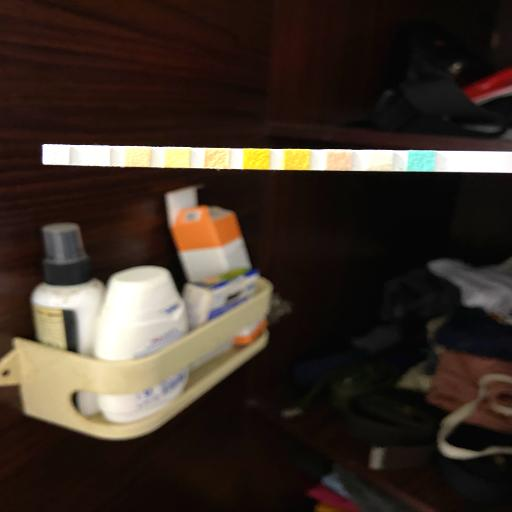Bilirubin: (366, 152, 392, 170)
Blood: (245, 149, 269, 169)
Glucose: (408, 151, 436, 171)
Ketone: (324, 150, 350, 170)
Leukocytes: (44, 146, 69, 164)
Nitrite: (84, 146, 109, 166)
Protein: (164, 148, 188, 168)
SpGravity: (282, 150, 308, 170)
Urobilinogen: (124, 148, 150, 166)
pH: (204, 149, 228, 168)
strip: (43, 145, 512, 173)
